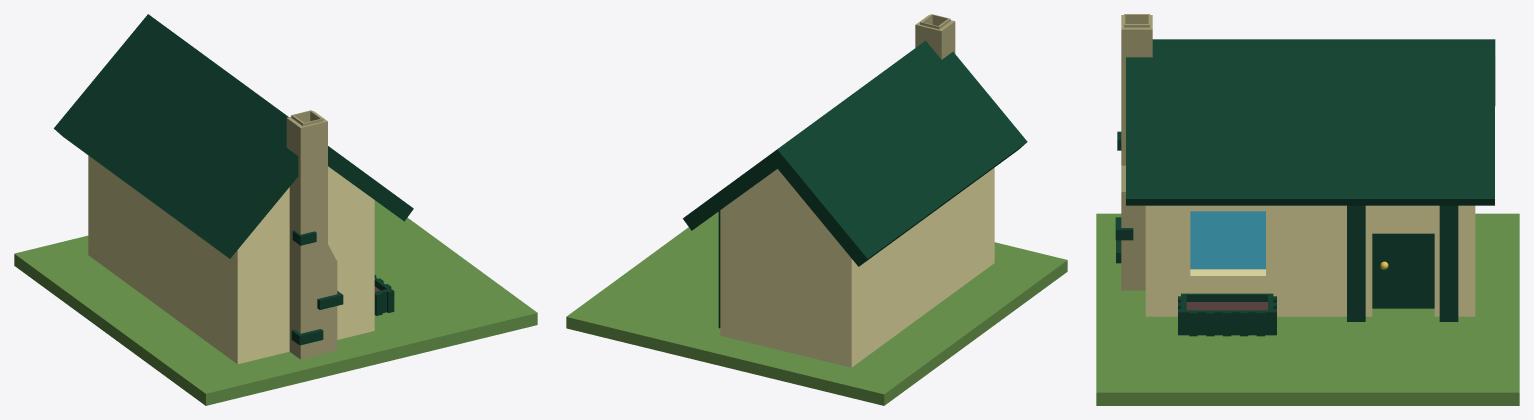
File: casa-4.glb
The picture shows the model from 3 angles, left to right: view 1: azimuth 30°, elevation 25°; view 2: azimuth 150°, elevation 25°; view 3: azimuth 270°, elevation 25°; orthographic projection. The views are drawn at different scales.
Parts seen in each view (by area): view 1: Cubo.002, Cube, Cubo, Cubo.003, Cubo.005; view 2: Cubo, Cubo.002, Cube, Cubo.003; view 3: Cubo.002, Cube, Cubo, Cubo.005, Cubo.003, Cubo.004, Cubo.001.
Part boxes in pixels (x1,y1,x2,y2): Cubo.002: (54, 14, 413, 258); Cube: (14, 200, 537, 405); Cubo: (88, 155, 374, 364); Cubo.003: (286, 110, 337, 359); Cubo.005: (374, 275, 394, 315); Cubo: (720, 167, 994, 367); Cubo.002: (683, 40, 1027, 266); Cube: (566, 211, 1067, 405); Cubo.003: (915, 14, 955, 59); Cubo.002: (1126, 39, 1495, 205); Cube: (1096, 213, 1519, 405); Cubo: (1145, 205, 1475, 316); Cubo.005: (1178, 293, 1276, 336); Cubo.003: (1121, 14, 1152, 290); Cubo.004: (1439, 205, 1458, 321); Cubo.001: (1347, 205, 1365, 321).
Size of the model in its own units: 6.17 by 4.38 by 6.17.
